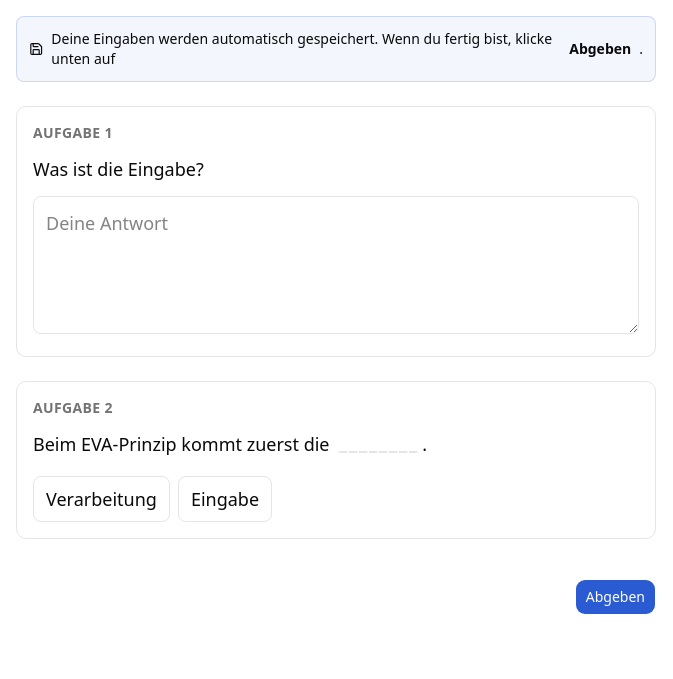
Test case: WorksheetRunner › shows an error banner when saveDraft rejects
The image size is (673, 679).
Type "X" into the text box with placeholder "Deine Antwort".
click(336, 265); type("X")  # box [33,196,639,334]
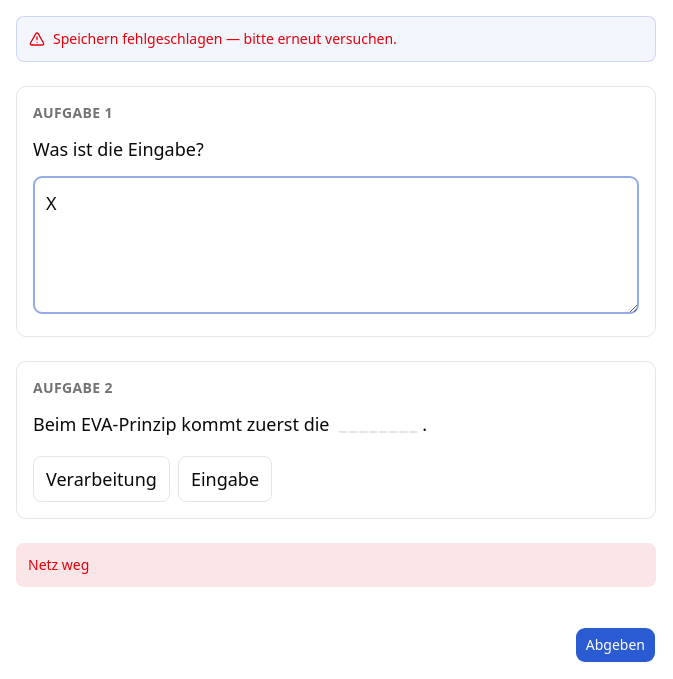
Expected: the text "Speichern fehlgeschlagen — bitte erneut versuchen." is shown, [29,29,397,48]
